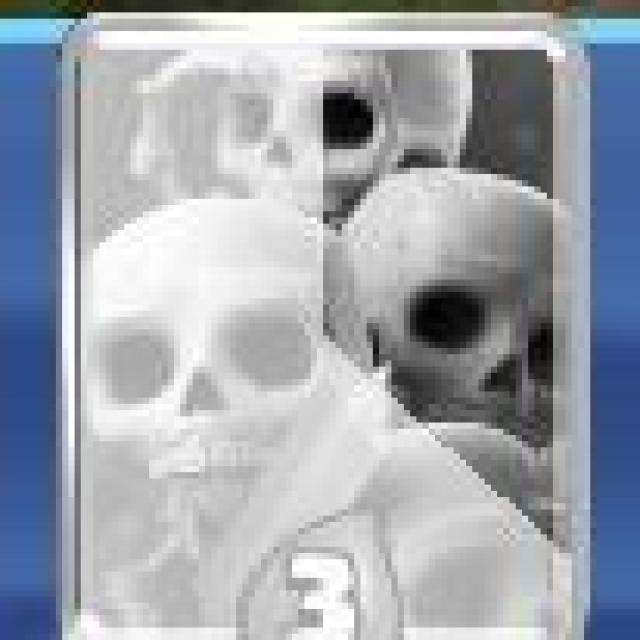Skeleton_Army: (55, 14, 588, 640)
